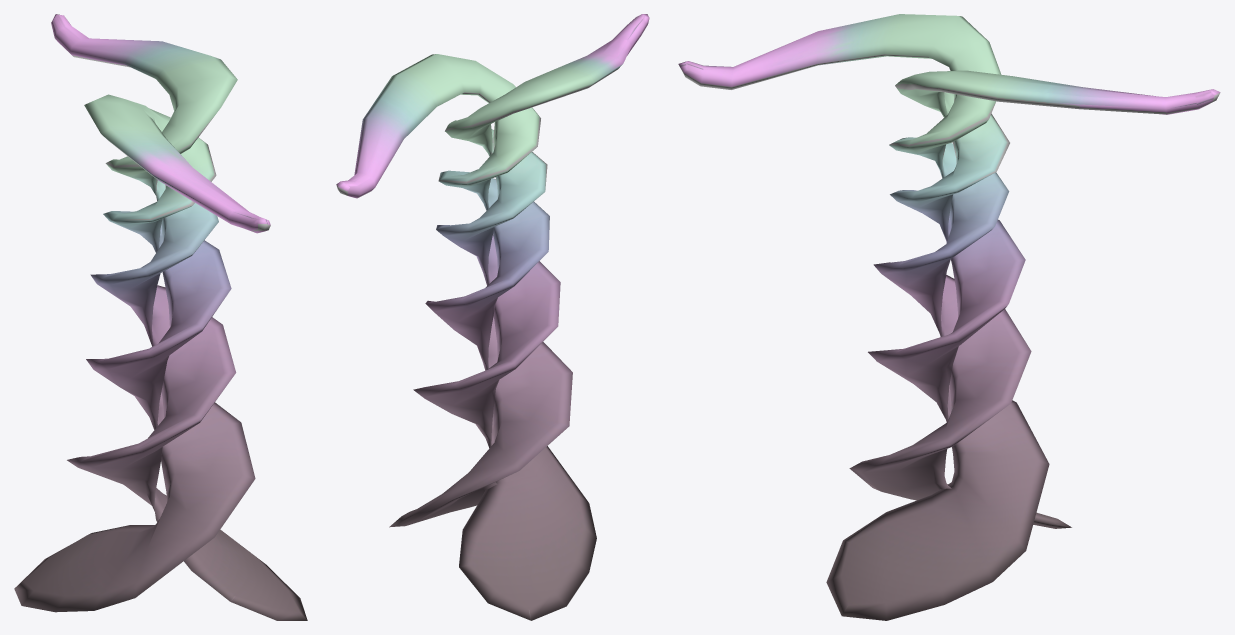
File: Rotating_plants (2).fbx
3 renders of one model, left to right at view 1: azimuth 30°, elevation 25°; view 2: azimuth 150°, elevation 25°; view 3: azimuth 270°, elevation 25°, orthographic. The views are drawn at different scales.
Parts seen in each view (by area): view 1: Rotating plants; view 2: Rotating plants; view 3: Rotating plants.
Part boxes in pixels (x1,y1,x2,y2): Rotating plants: (14,14,307,620); Rotating plants: (336,14,649,620); Rotating plants: (678,14,1220,620).
Bounding box in the file's own units: 10.42 × 22.27 × 23.71.
